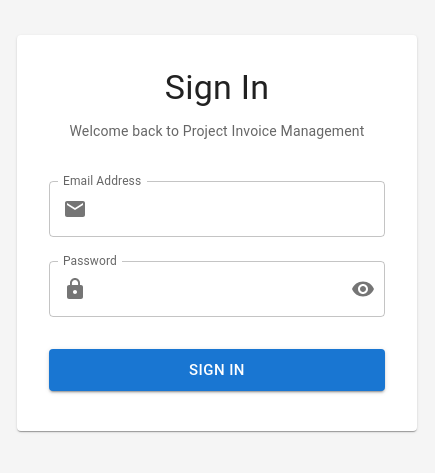
LoginForm › should validate password length
Expected: the heading "Sign In" is shown, 165,67 -> 269,107
In the password field labelled "Password": coordinates (215, 289) 95,261 -> 335,317, type "123"
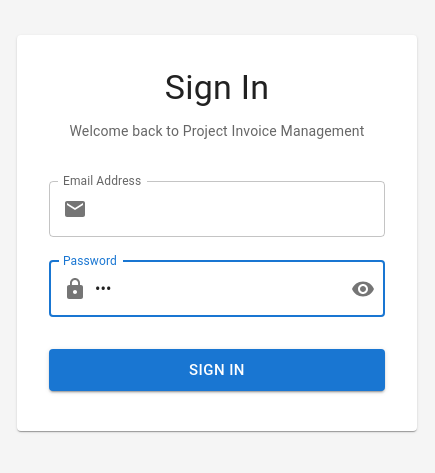
Click the button "Sign In": coordinates (217, 370) 49,349 -> 385,391
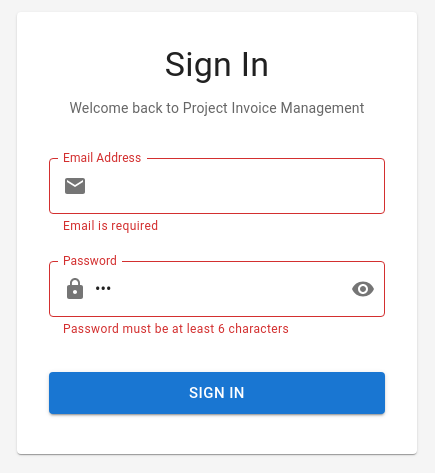
Expected: the text "Password must be at least 6 characters" is shown, 63,322 -> 289,336
